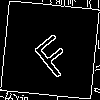F: (25, 25, 78, 81)
